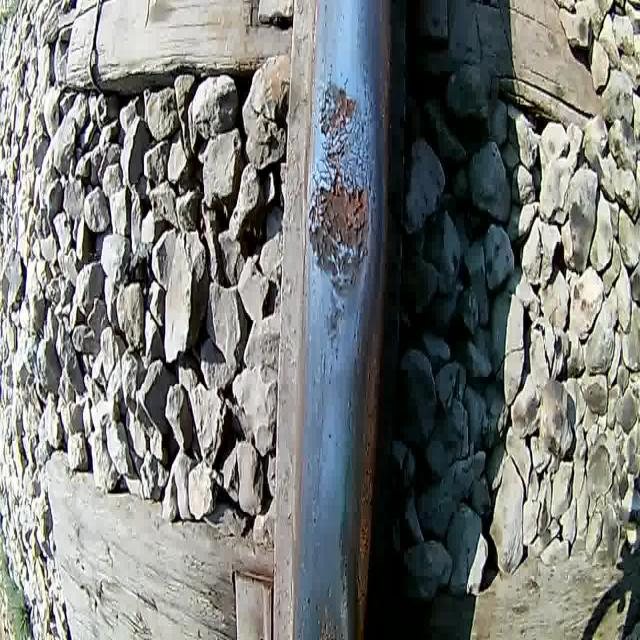Cracks: (310, 110, 376, 204), (313, 60, 336, 128), (352, 297, 365, 362)
Spallings: (309, 171, 375, 269)
Squats: (303, 56, 380, 366), (299, 597, 355, 640)
